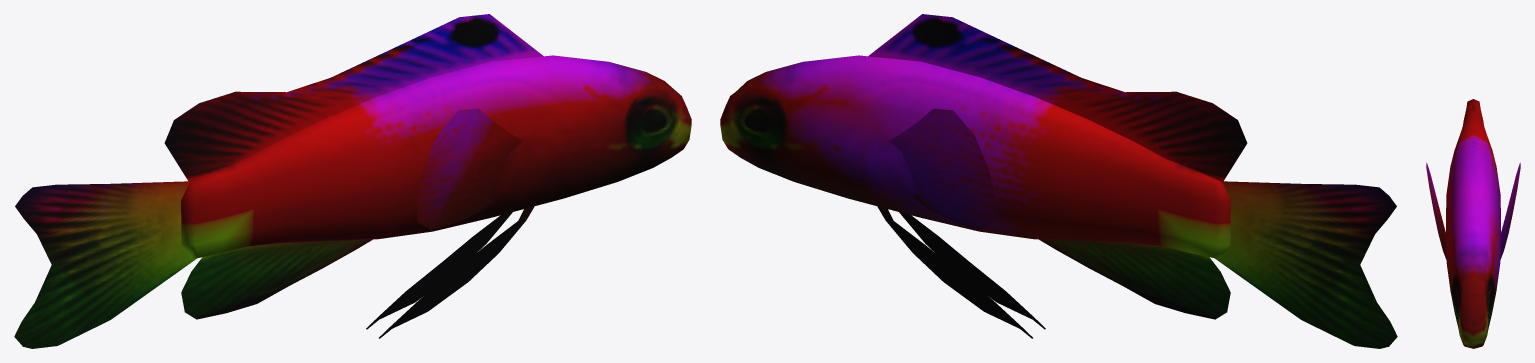
Rendered from royal_gramma.glb.
3 renders of one model, left to right at view 1: azimuth 30°, elevation 25°; view 2: azimuth 150°, elevation 25°; view 3: azimuth 270°, elevation 25°, orthographic. The views are drawn at different scales.
Visible parts, largest first — view 1: RoyalGramma; view 2: RoyalGramma; view 3: RoyalGramma.
Boxes of the visible parts, x1,y1,x2,y2 form: RoyalGramma: (14, 14, 691, 348); RoyalGramma: (720, 14, 1397, 348); RoyalGramma: (1426, 99, 1520, 348).
Size of the model in its own units: 1 by 0.4176 by 0.1558.
1 material, 1 textured.
